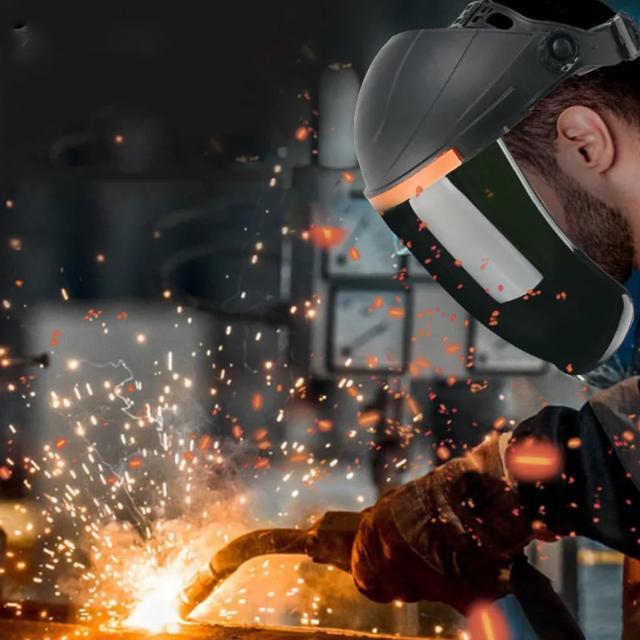with_helmet: (342, 11, 640, 379)
